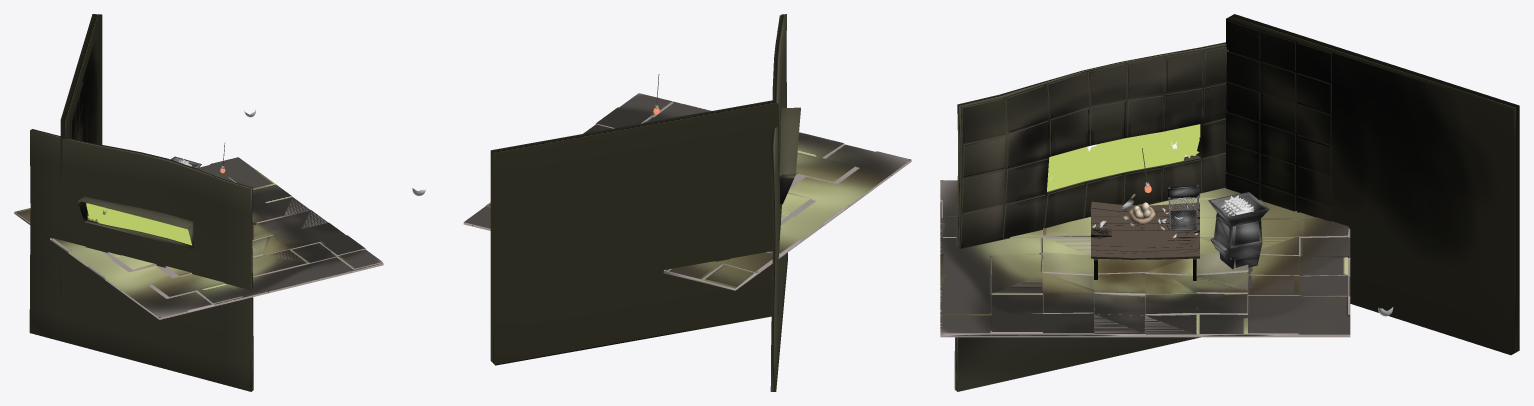
File: poultry_man_menu.glb
3 renders of one model, left to right at view 1: azimuth 30°, elevation 25°; view 2: azimuth 150°, elevation 25°; view 3: azimuth 270°, elevation 25°, orthographic. The views are drawn at different scales.
Visible parts, largest first — view 1: WallLeft, Floor, WallRight, Window; view 2: WallRight, Floor, WallLeft; view 3: WallRight, Floor, WallLeft, Window, Tabel, Grinder, Cage, CageOuter.
Part boxes in pixels (x1,y1,x2,y2): WallLeft: (29, 129, 253, 391); Floor: (14, 157, 383, 319); WallRight: (60, 14, 102, 293); Window: (86, 203, 191, 245); WallRight: (490, 100, 778, 365); Floor: (463, 93, 911, 290); WallLeft: (770, 14, 800, 391); WallRight: (1225, 14, 1519, 355); Floor: (940, 180, 1350, 337); WallLeft: (954, 42, 1228, 391); Window: (1047, 124, 1200, 191); Tabel: (1090, 201, 1199, 280); Grinder: (1208, 192, 1269, 269); Cage: (1167, 184, 1199, 230); CageOuter: (1168, 197, 1198, 229).
Bounding box in the file's own units: 60.9 × 49.04 × 82.35.
16 materials, 14 textured.
